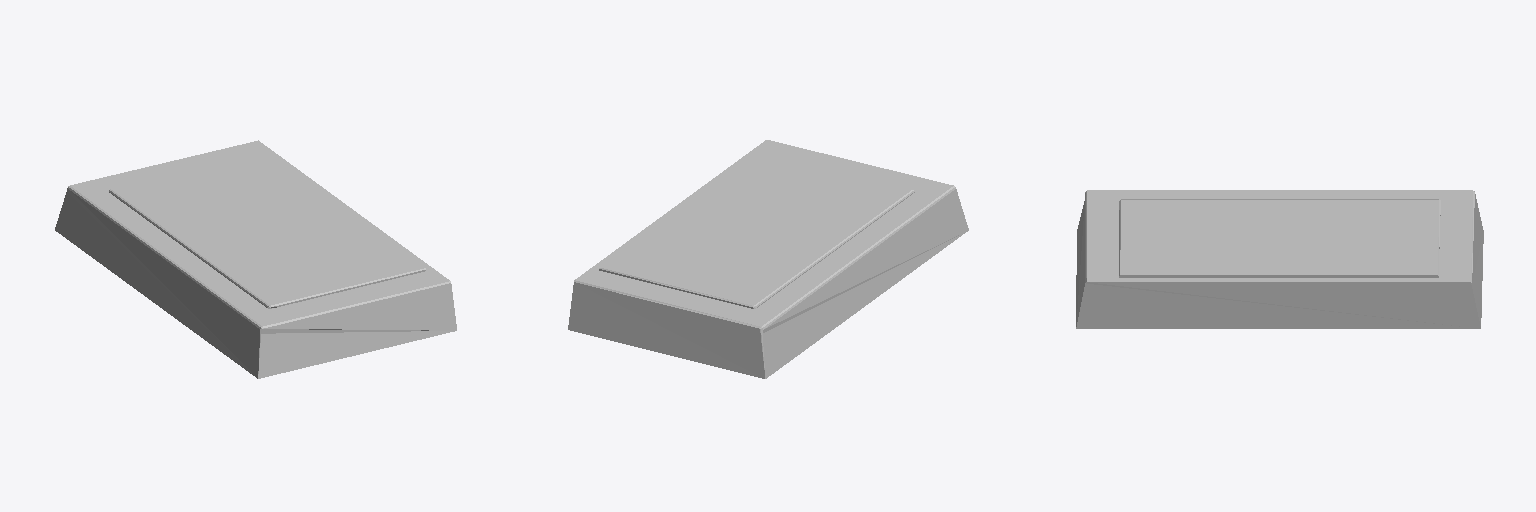
The model's file is table.obj.
3 renders of one model, left to right at view 1: azimuth 30°, elevation 25°; view 2: azimuth 150°, elevation 25°; view 3: azimuth 270°, elevation 25°, orthographic.
Parts seen in each view (by area): view 1: Cube.007; view 2: Cube.007; view 3: Cube.007.
Part boxes in pixels (left/top/right/bottom): Cube.007: left=55, top=140, right=456, bottom=378; Cube.007: left=568, top=140, right=968, bottom=378; Cube.007: left=1076, top=190, right=1483, bottom=328.
Size of the model in its own units: 2.73 by 0.6415 by 4.84.